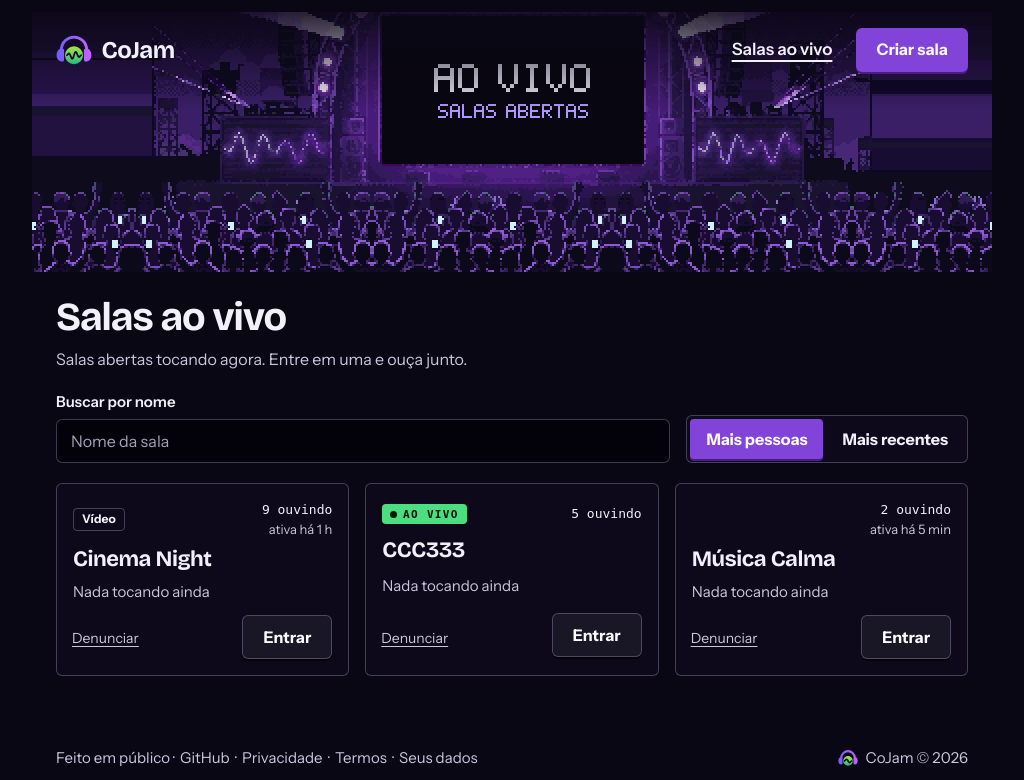
Test: RoomsPage › filters by name, ignoring case and accents, and by room code
Type "musica" into the search field. click: {"x": 363, "y": 441}
box: [56, 419, 670, 463]
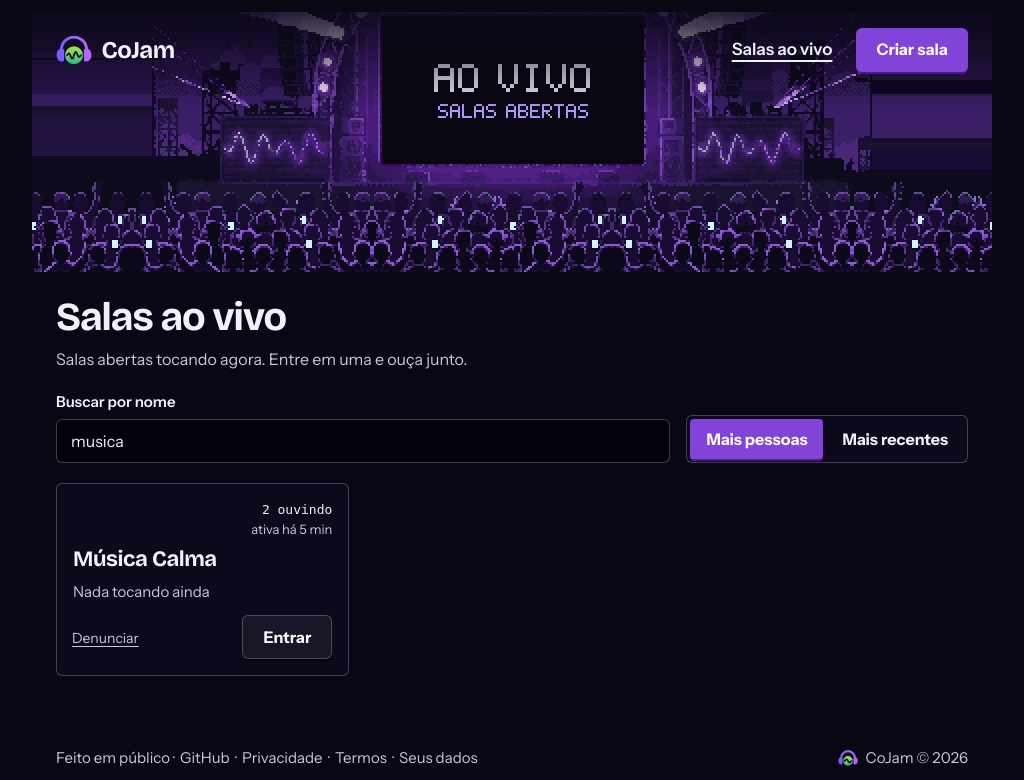
Replace the text in the search field with "ccc". click: {"x": 363, "y": 441}
box: [56, 419, 670, 463]
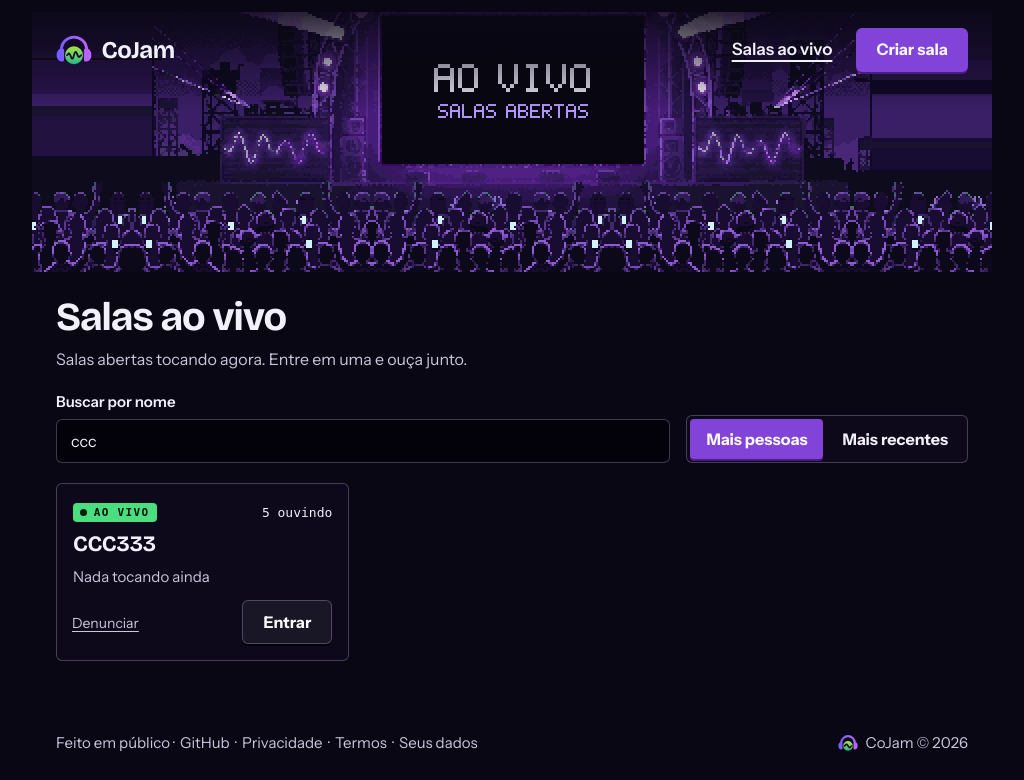
Replace the text in the search field with "zzz". click: {"x": 363, "y": 441}
box: [56, 419, 670, 463]
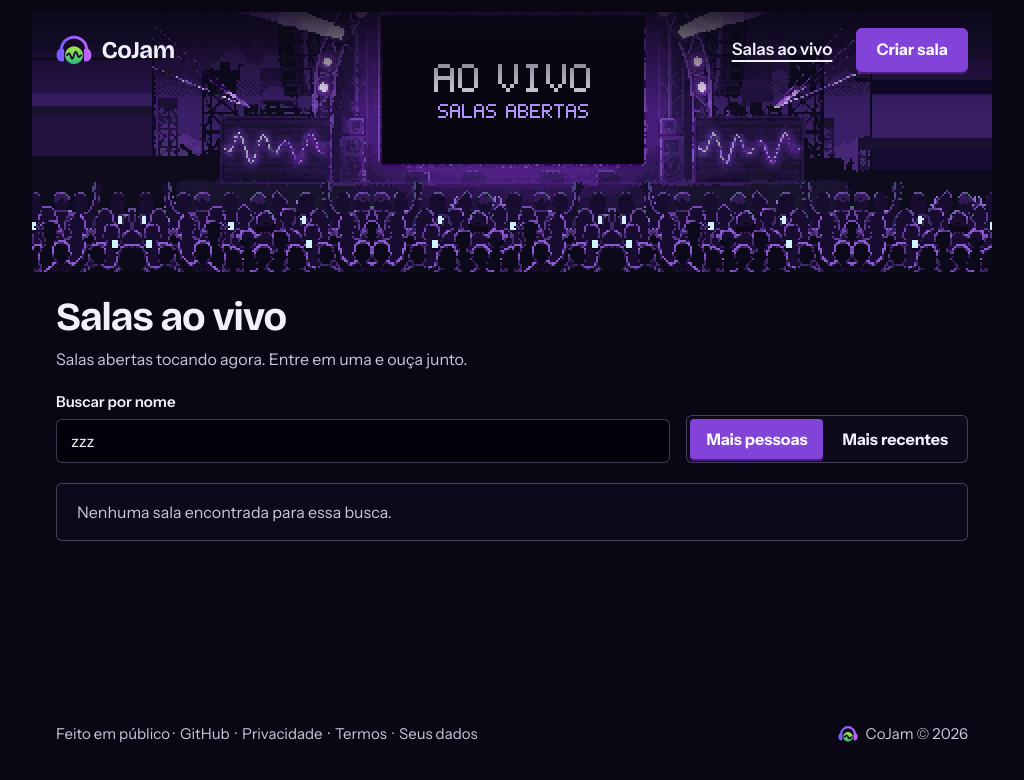
Now the text "Nenhuma sala encontrada para essa busca." is shown, box [56, 483, 968, 541]
